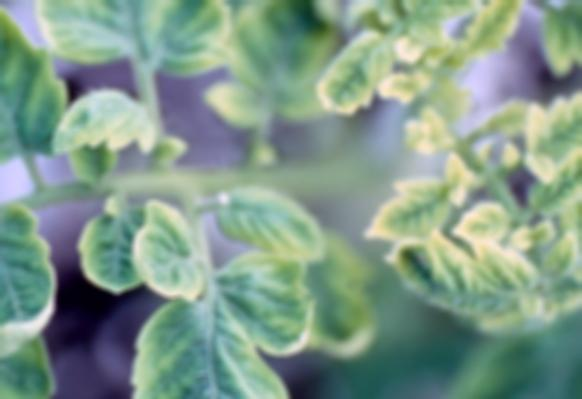Tomato leaf yellow virus: (127, 302, 318, 399), (35, 0, 232, 77), (206, 248, 325, 373), (0, 0, 72, 165), (205, 183, 354, 260), (314, 14, 412, 126), (66, 182, 154, 294), (0, 202, 60, 353), (128, 197, 217, 298), (50, 88, 161, 167), (363, 171, 467, 246)
